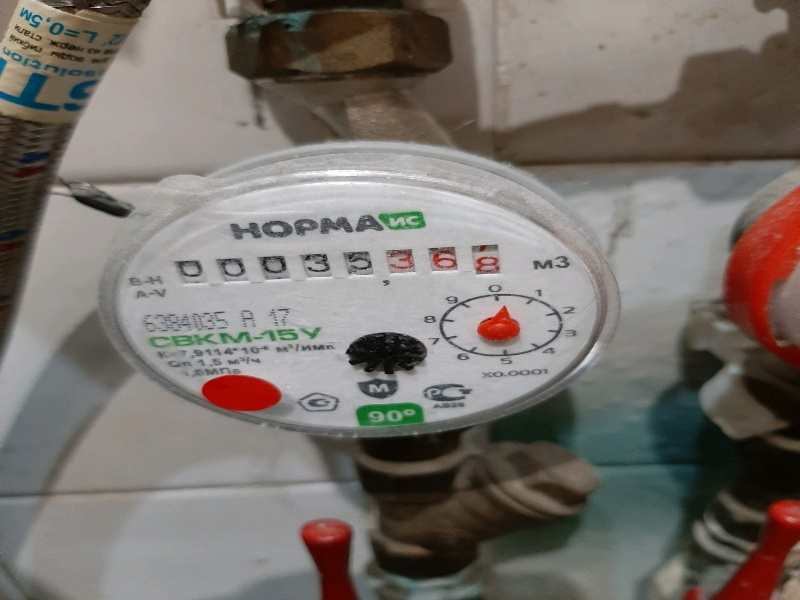meter: (170, 248, 498, 287)
